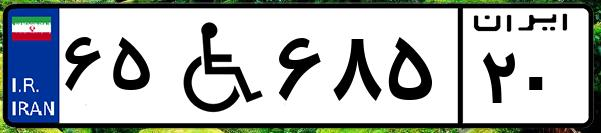0: (525, 38, 570, 115)
2: (475, 38, 525, 113)
5: (385, 28, 445, 110), (110, 28, 158, 98)
6: (270, 28, 330, 110), (57, 26, 110, 100)
8: (330, 28, 385, 110)
ژ (معلولین و جانبازان): (158, 12, 270, 120)
